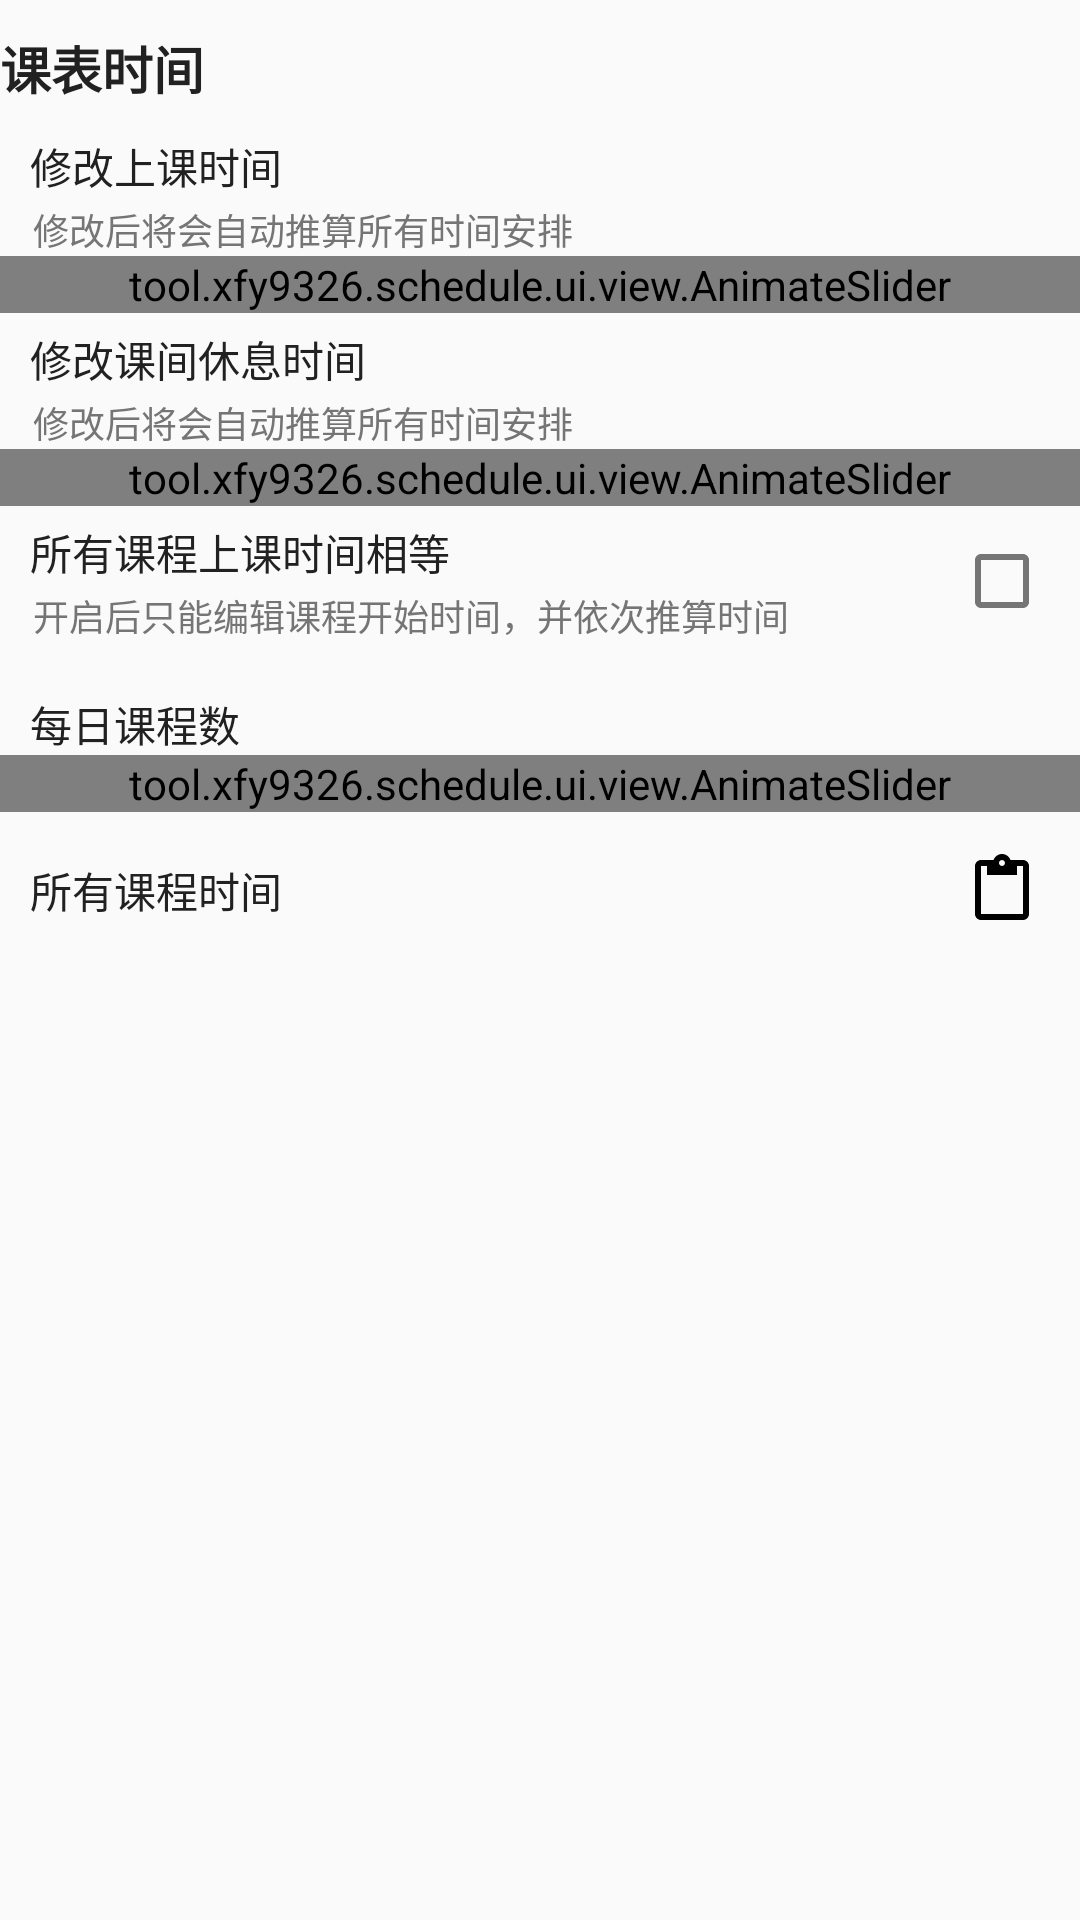

Screen size 1080*1920. Icon name, then its box in pixels as {"left": x1, "top": y1, "right": x2, "bottom": y2}:
从其他课表导入课表时间: {"left": 975, "top": 854, "right": 1029, "bottom": 920}
